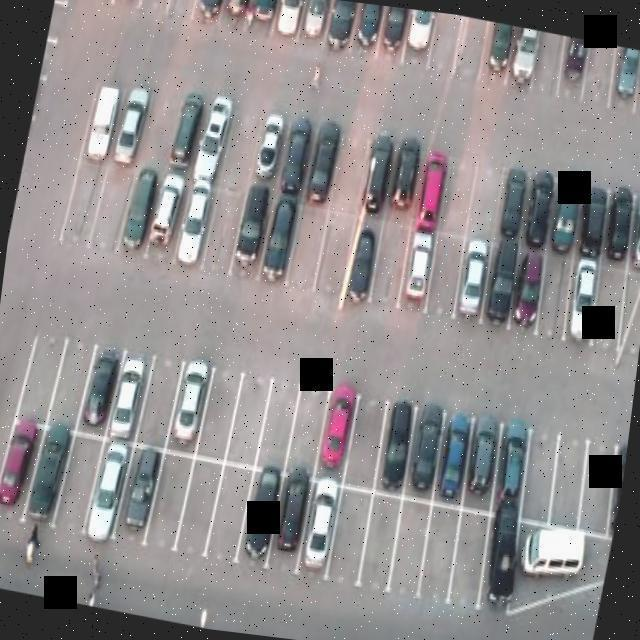space-empty: (175, 454, 226, 559), (443, 507, 492, 611), (357, 488, 406, 590), (416, 502, 462, 606), (144, 450, 192, 549), (342, 397, 390, 496), (54, 427, 99, 531), (325, 488, 374, 583), (387, 498, 433, 599), (87, 152, 135, 248), (11, 330, 61, 422), (42, 342, 92, 434), (193, 369, 244, 459), (517, 424, 562, 525), (542, 434, 589, 530), (219, 100, 267, 191), (433, 145, 479, 239), (208, 469, 253, 565), (573, 443, 617, 539), (368, 215, 412, 311), (254, 384, 300, 475), (227, 378, 272, 469), (283, 386, 328, 477), (285, 203, 330, 294), (462, 154, 508, 243), (58, 158, 104, 247), (314, 204, 357, 295), (135, 83, 180, 169), (329, 131, 374, 215), (201, 187, 246, 271), (139, 359, 180, 449), (535, 247, 576, 335), (587, 269, 626, 359), (523, 29, 571, 101), (578, 41, 624, 115), (424, 230, 465, 313), (612, 268, 640, 361), (425, 11, 466, 73), (453, 16, 491, 81), (165, 0, 201, 30), (136, 0, 174, 22), (630, 50, 640, 115)
space-occupied: (20, 417, 71, 529), (80, 439, 134, 544), (266, 476, 315, 573), (472, 516, 521, 613), (75, 341, 123, 440), (298, 482, 346, 581), (313, 385, 361, 484), (236, 465, 282, 566), (102, 352, 150, 448), (514, 160, 564, 252), (118, 442, 162, 546), (458, 418, 503, 519), (78, 77, 126, 168), (0, 422, 43, 522), (258, 192, 302, 288), (231, 177, 275, 273), (189, 89, 233, 185), (116, 163, 160, 259), (165, 85, 209, 181), (167, 364, 213, 455), (559, 257, 605, 348), (340, 216, 386, 307), (271, 111, 316, 202), (541, 170, 587, 259), (382, 132, 426, 225), (174, 179, 219, 268), (478, 237, 522, 328), (402, 408, 445, 499), (145, 172, 188, 263), (491, 425, 533, 518), (571, 176, 615, 264), (488, 160, 533, 246), (108, 82, 151, 168), (596, 185, 640, 269), (300, 120, 344, 204), (410, 138, 451, 228), (247, 103, 288, 193), (375, 401, 416, 489), (451, 231, 492, 319), (432, 415, 473, 501), (507, 244, 548, 330), (357, 132, 396, 219), (474, 20, 519, 92), (552, 35, 597, 107), (598, 442, 627, 551), (394, 8, 440, 76), (397, 224, 434, 306), (500, 25, 542, 94), (372, 5, 415, 71), (601, 44, 640, 116), (317, 0, 357, 65), (348, 2, 391, 61), (295, 0, 335, 59), (267, 0, 310, 46), (241, 0, 284, 41), (187, 0, 231, 36), (217, 0, 255, 35), (624, 189, 640, 269), (106, 0, 148, 25), (52, 0, 76, 11)
